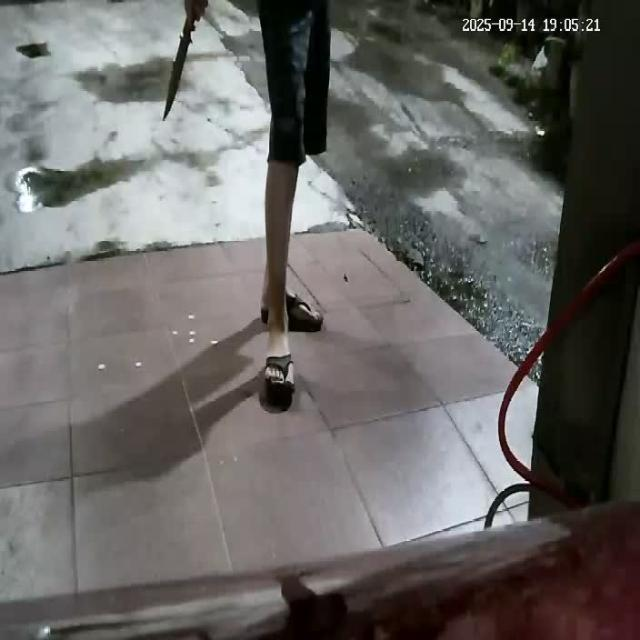senjata_tajam: (160, 28, 195, 125)
